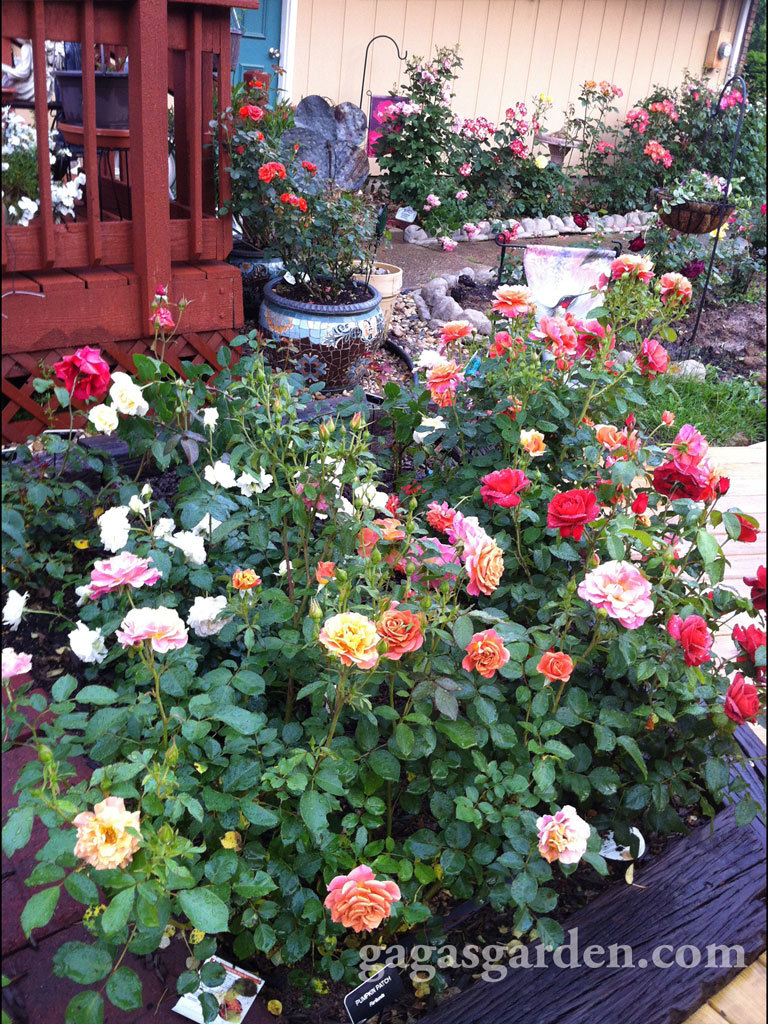Rose: (74, 798, 134, 863), (588, 556, 643, 621), (326, 871, 393, 922), (323, 612, 377, 663), (464, 529, 503, 596), (120, 607, 183, 648), (539, 806, 586, 857), (95, 555, 156, 592), (379, 609, 425, 656), (668, 615, 711, 665), (466, 630, 510, 678), (551, 492, 590, 536), (726, 676, 757, 725), (481, 468, 522, 505), (111, 375, 147, 417), (494, 284, 530, 316), (536, 655, 575, 684), (662, 272, 692, 302), (203, 459, 236, 486), (644, 338, 669, 371), (428, 361, 460, 383), (90, 404, 117, 429), (522, 429, 544, 453), (442, 321, 470, 339)
